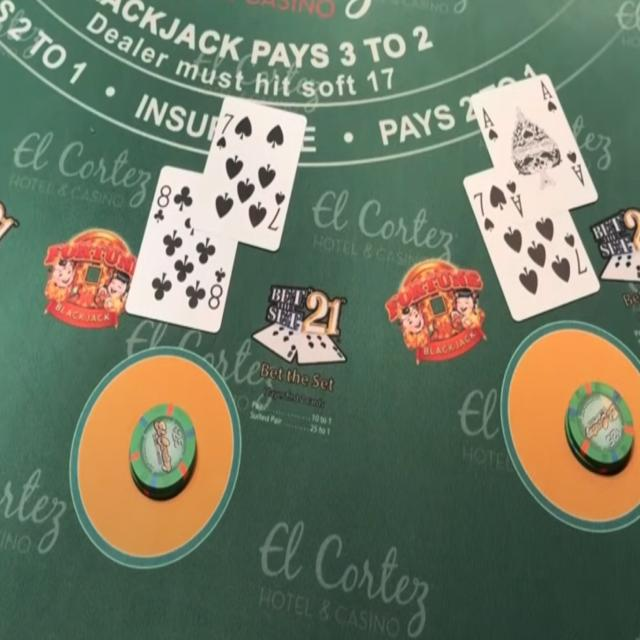7: (472, 190, 488, 218), (221, 111, 236, 136)
8: (156, 182, 172, 208)
A: (479, 103, 496, 130)
